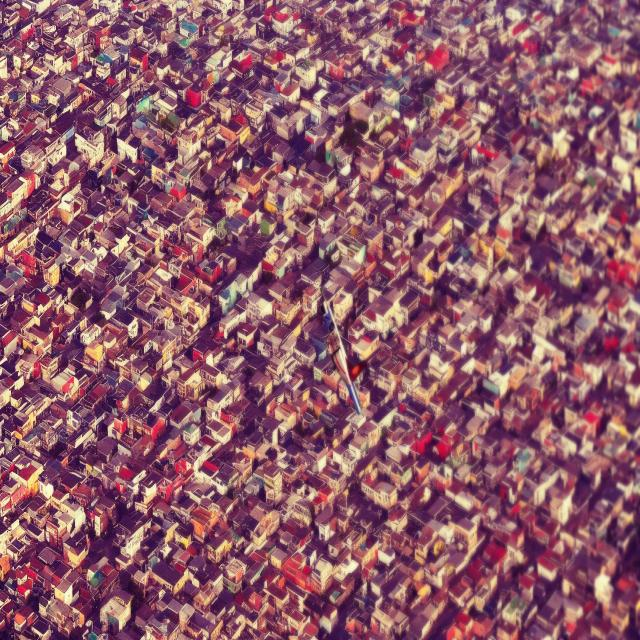airplane: (319, 285, 362, 416)
